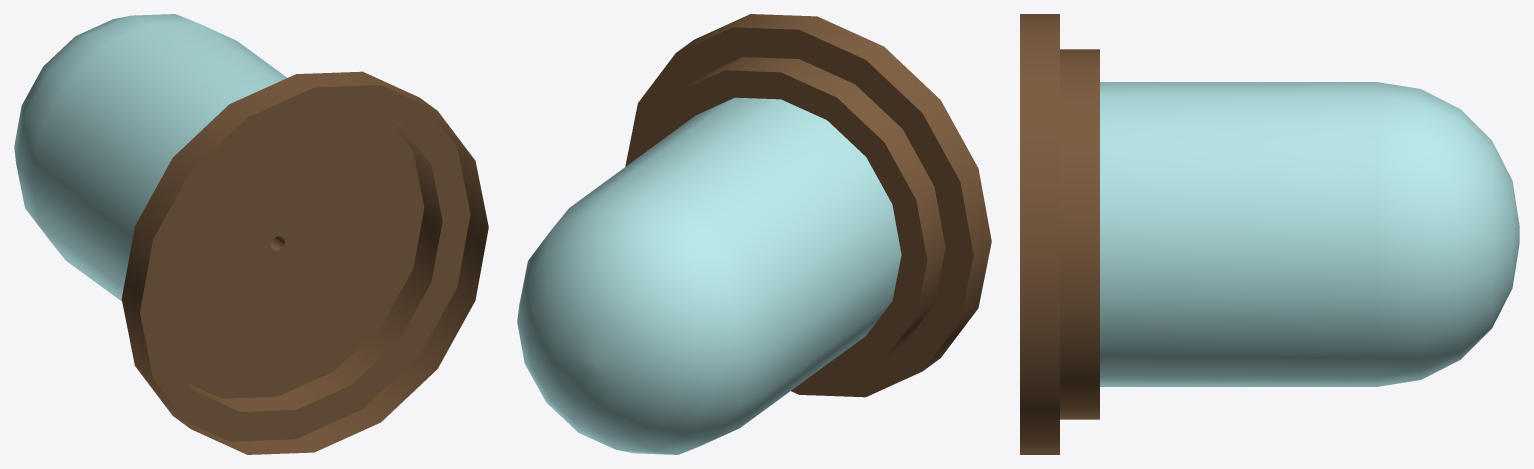
File: DisplayCase.fbx
3 views of the same model, side by side, from view 1: azimuth 30°, elevation 25°; view 2: azimuth 150°, elevation 25°; view 3: azimuth 270°, elevation 25° (orthographic). The views are drawn at different scales.
Parts seen in each view (by area): view 1: DisplayCase; view 2: DisplayCase; view 3: DisplayCase.
Boxes of the visible parts, bbox=[...] form: DisplayCase: bbox=[14, 14, 488, 454]; DisplayCase: bbox=[517, 14, 991, 454]; DisplayCase: bbox=[1020, 14, 1519, 454].
Bounding box in the file's own units: 289 × 289 × 327.
